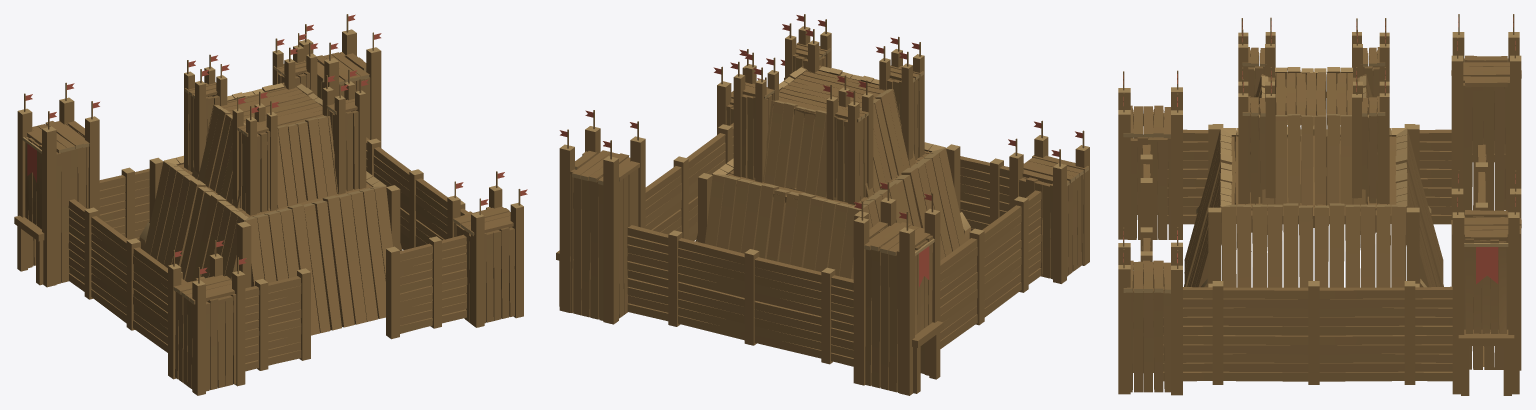
The model's file is Wooden Fortress.glb.
3 renders of one model, left to right at view 1: azimuth 30°, elevation 25°; view 2: azimuth 150°, elevation 25°; view 3: azimuth 270°, elevation 25°, orthographic. The views are drawn at different scales.
Visible parts, largest first — view 1: Wooden Fortress; view 2: Wooden Fortress; view 3: Wooden Fortress.
Boxes of the visible parts, left/top/right/bottom form: Wooden Fortress: left=14, top=14, right=527, bottom=395; Wooden Fortress: left=556, top=14, right=1089, bottom=395; Wooden Fortress: left=1118, top=14, right=1521, bottom=395.
Size of the model in its own units: 2.2 by 1.36 by 1.95.
